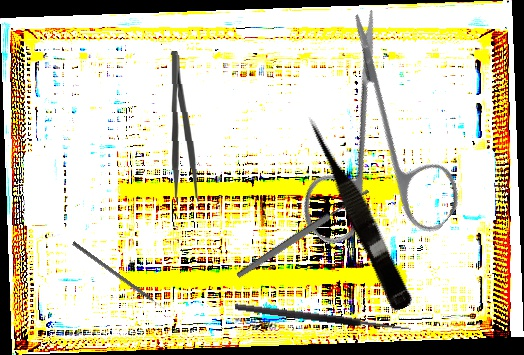Dressing Forceps: (167, 50, 200, 203)
Hook Surgical: (234, 294, 413, 333), (71, 241, 166, 312)
Iris Scissors: (231, 4, 520, 294)
Micro Scissor: (300, 109, 419, 313)
Surgical Spoon: (235, 187, 371, 280)
